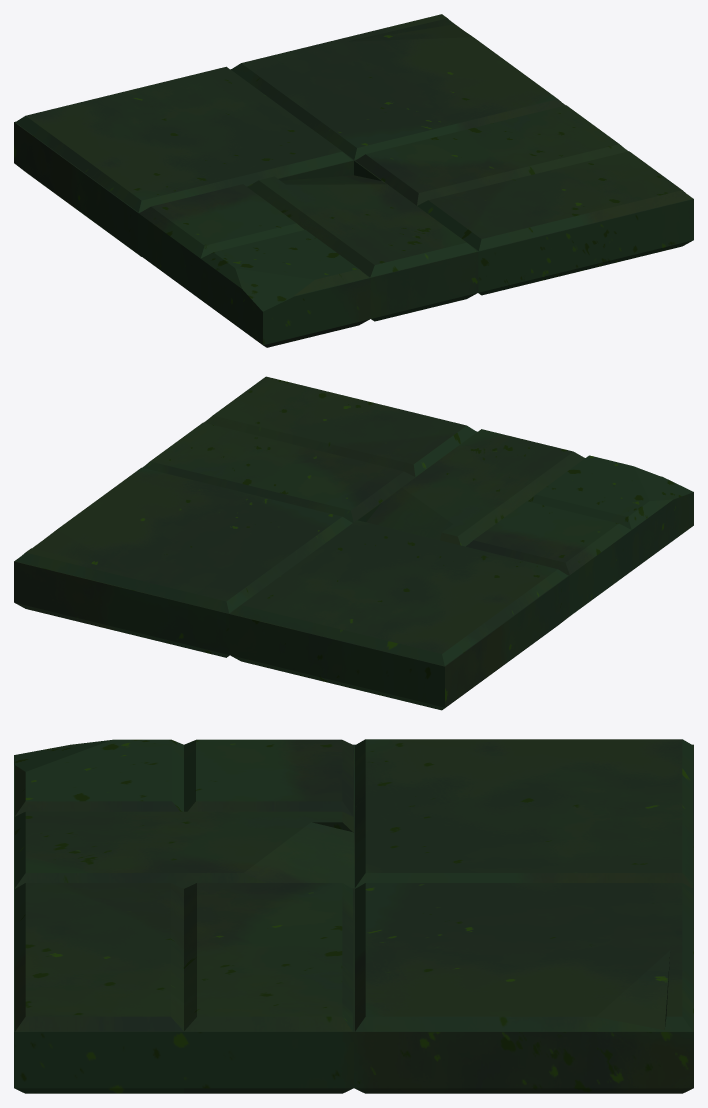
Rendered from gen_floor_5.fbx.
3 renders of one model, top to bottom at view 1: azimuth 30°, elevation 25°; view 2: azimuth 150°, elevation 25°; view 3: azimuth 270°, elevation 25°, orthographic. The views are drawn at different scales.
Visible parts, largest first — view 1: gen_floor_5; view 2: gen_floor_5; view 3: gen_floor_5.
Boxes of the visible parts, left/top/right/bottom form: gen_floor_5: left=14, top=14, right=693, bottom=347; gen_floor_5: left=14, top=376, right=693, bottom=710; gen_floor_5: left=14, top=739, right=693, bottom=1093.
Size of the model in its own units: 800 by 100 by 800.
